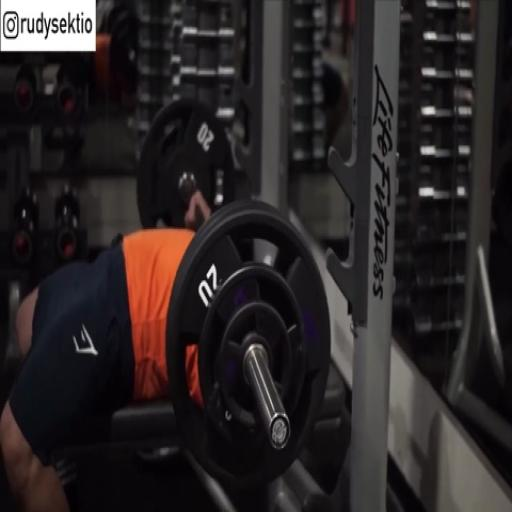exercise: (0, 184, 226, 510)
